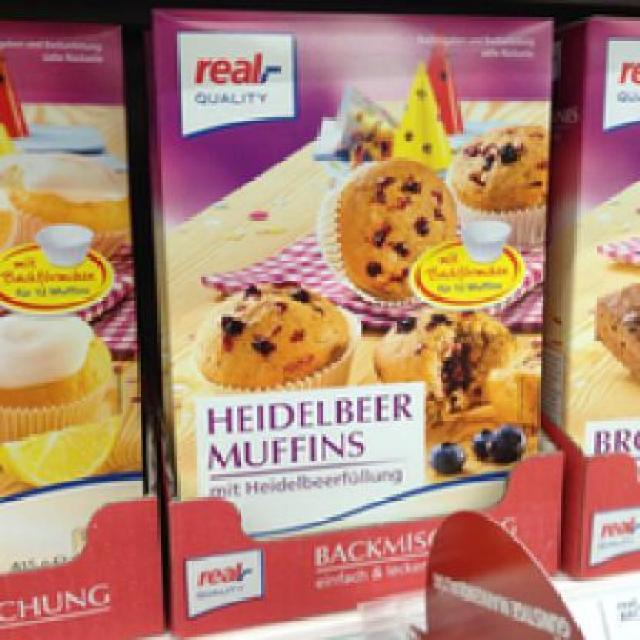Cake: (141, 0, 549, 535), (0, 14, 137, 532)
